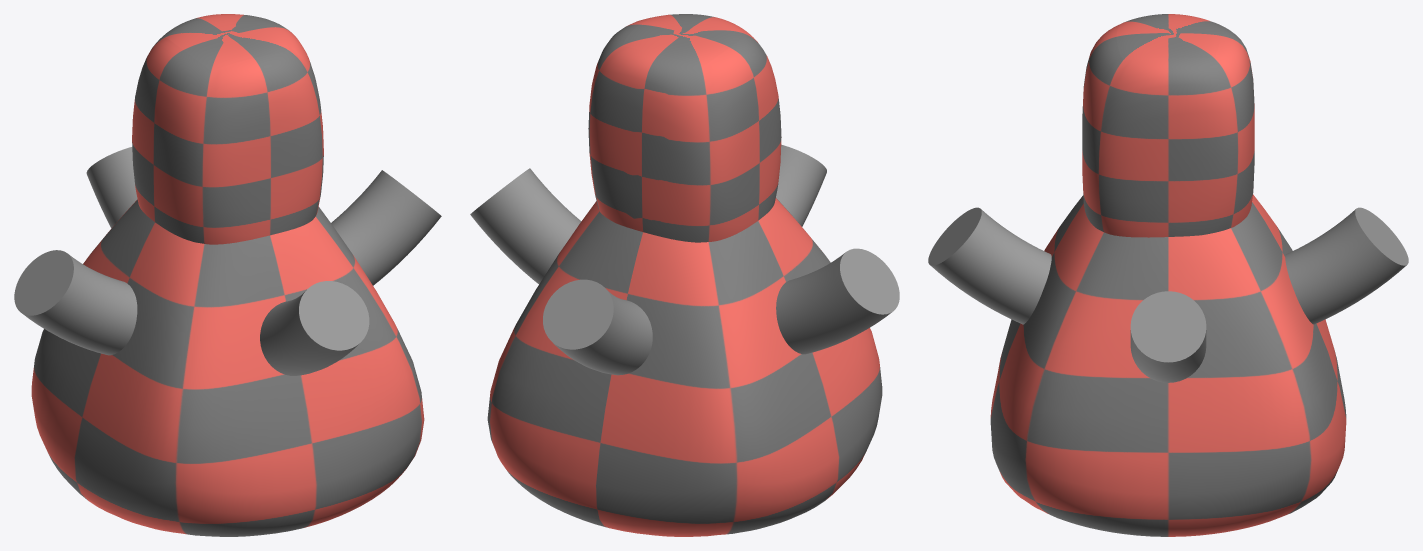
Rendered from Body(Pyramidal)+Colour(More_Red)+Pattern(Checkered)+Arm_Angle(Bent_Up)+Hat(Oblong).fbx.
The picture shows the model from 3 angles, left to right: view 1: azimuth 30°, elevation 25°; view 2: azimuth 150°, elevation 25°; view 3: azimuth 270°, elevation 25°; orthographic projection.
Parts seen in each view (by area): view 1: Body(Pyramidal)+Colour(More_Red)+Pattern(Checkered)+Arm_Angl (×6); view 2: Body(Pyramidal)+Colour(More_Red)+Pattern(Checkered)+Arm_Angl (×6); view 3: Body(Pyramidal)+Colour(More_Red)+Pattern(Checkered)+Arm_Angl (×5).
Boxes of the visible parts, bbox=[...] form: Body(Pyramidal)+Colour(More_Red)+Pattern(Checkered)+Arm_Angl (×6): bbox=[14, 14, 441, 536]; Body(Pyramidal)+Colour(More_Red)+Pattern(Checkered)+Arm_Angl (×6): bbox=[470, 14, 899, 536]; Body(Pyramidal)+Colour(More_Red)+Pattern(Checkered)+Arm_Angl (×5): bbox=[928, 14, 1408, 536].
Size of the model in its own units: 50.67 by 53 by 50.67.
Materials: 2 (1 with a texture image).
